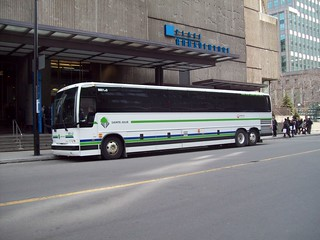bus: (49, 82, 272, 159)
